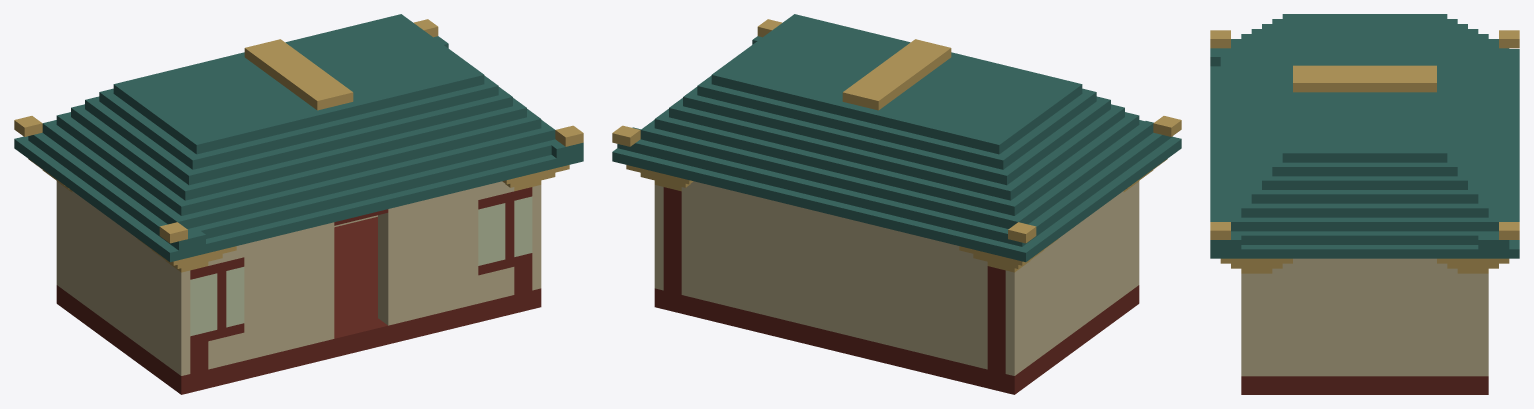
The model's file is workshop.glb.
3 views of the same model, side by side, from view 1: azimuth 30°, elevation 25°; view 2: azimuth 150°, elevation 25°; view 3: azimuth 270°, elevation 25° (orthographic).
Parts seen in each view (by area): view 1: Shell; view 2: Shell; view 3: Shell.
Part boxes in pixels (box(x1,y1,x2,y2)): Shell: box(14, 14, 583, 394); Shell: box(612, 14, 1181, 394); Shell: box(1210, 14, 1519, 394).
Size of the model in its own units: 5.75 by 3.12 by 3.75.
